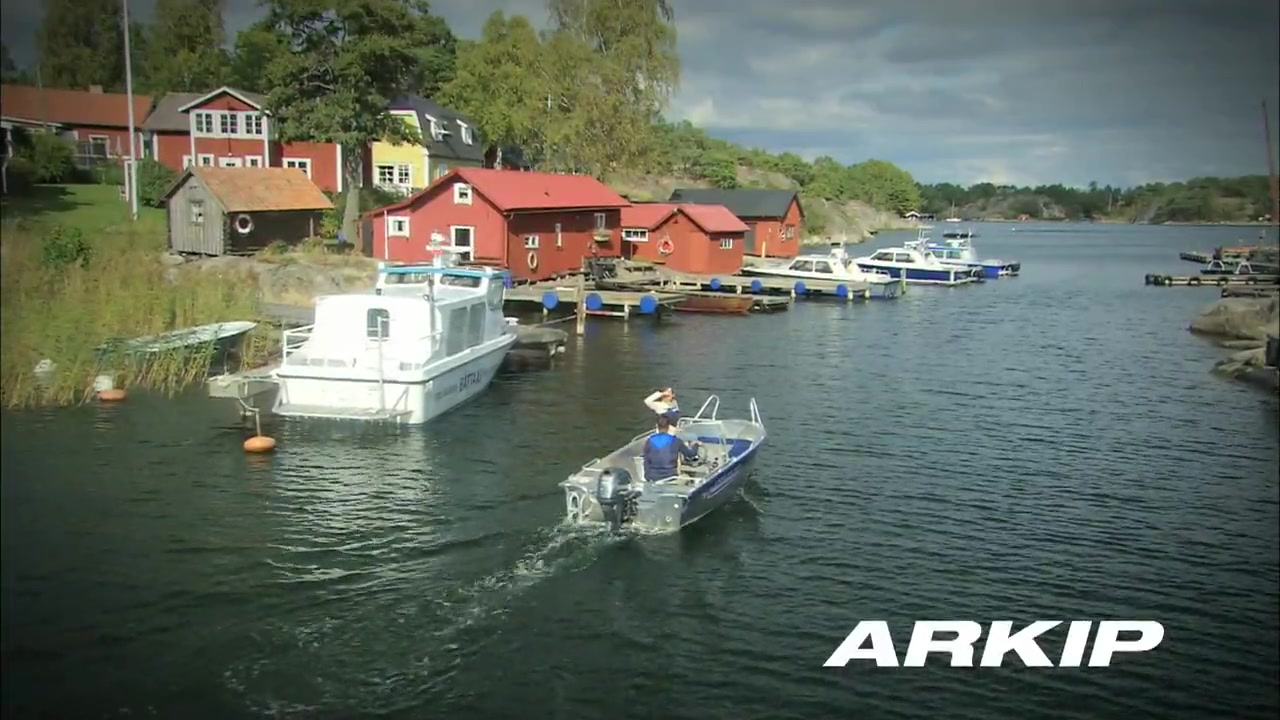boat: (559, 394, 770, 538)
